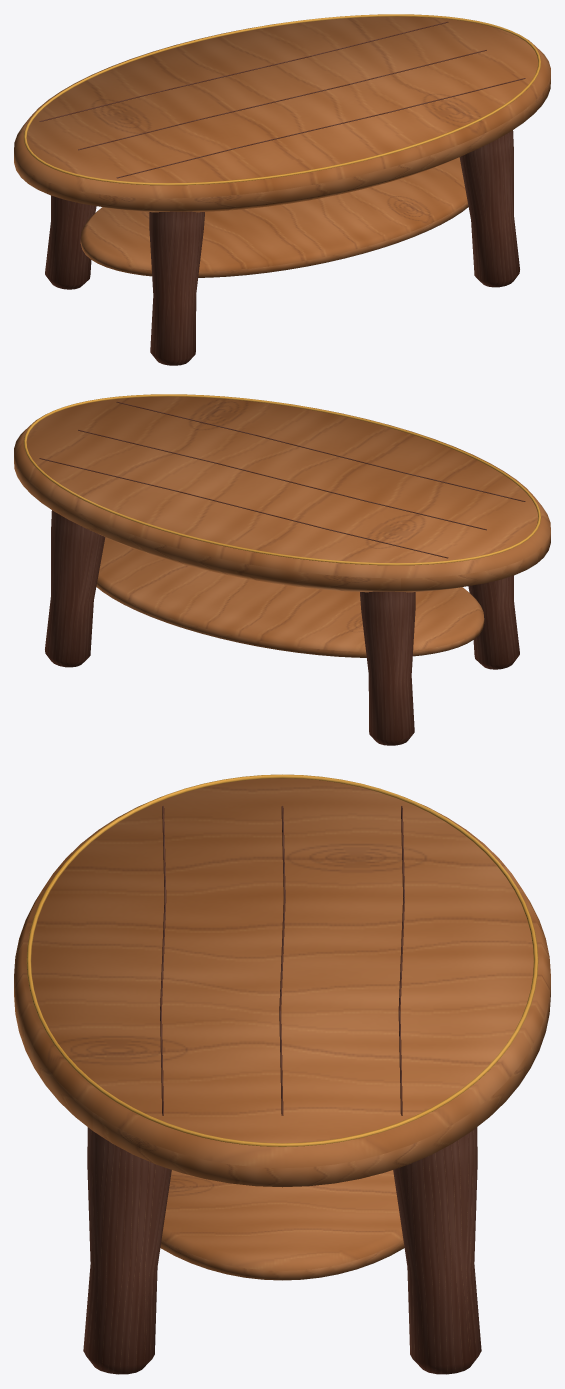
Rendered from V5_CoffeeTable.fbx.
3 renders of one model, top to bottom at view 1: azimuth 30°, elevation 25°; view 2: azimuth 150°, elevation 25°; view 3: azimuth 270°, elevation 25°, orthographic. The views are drawn at different scales.
Parts seen in each view (by area): view 1: V5_CoffeeTable; view 2: V5_CoffeeTable; view 3: V5_CoffeeTable.
Part boxes in pixels (x1,y1,x2,y2): V5_CoffeeTable: (14, 14, 550, 365); V5_CoffeeTable: (14, 394, 550, 745); V5_CoffeeTable: (14, 774, 550, 1374).
Size of the model in its own units: 1.22 by 0.4214 by 0.72.
1 material, 1 textured.
